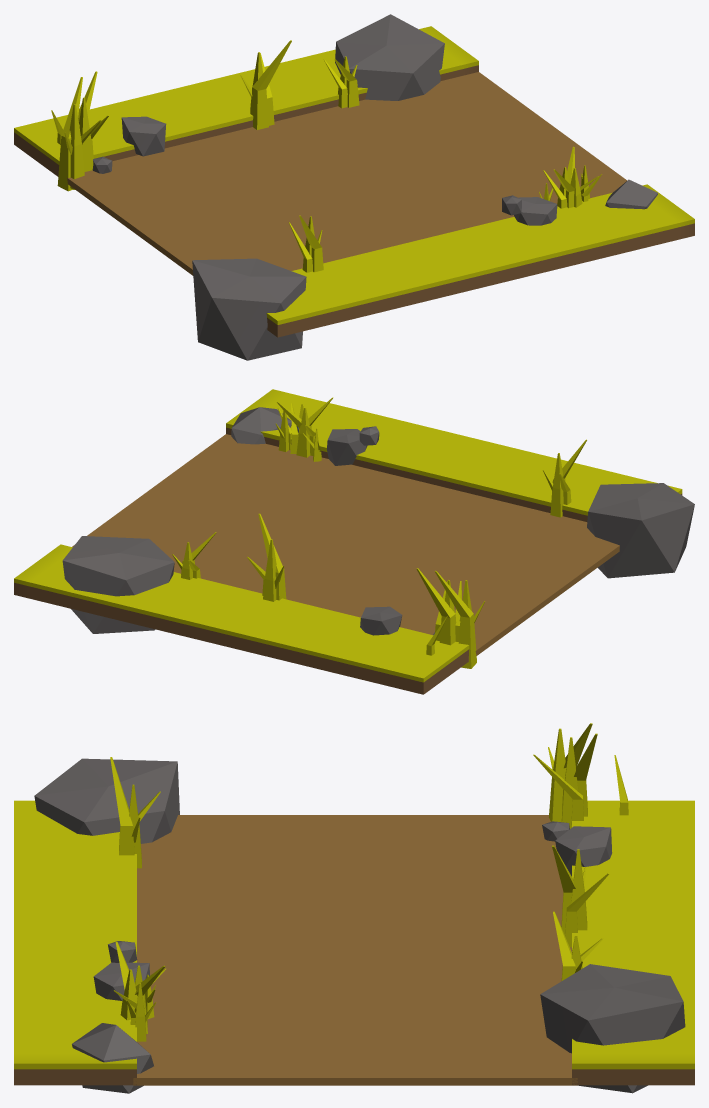
The model's file is CHEMIN 1.fbx.
3 views of the same model, one above another, from view 1: azimuth 30°, elevation 25°; view 2: azimuth 150°, elevation 25°; view 3: azimuth 270°, elevation 25° (orthographic). The views are drawn at different scales.
Parts seen in each view (by area): view 1: Stone_1.002; view 2: Stone_1.002; view 3: Stone_1.002.
Boxes of the visible parts, bbox=[...] form: Stone_1.002: bbox=[14, 14, 694, 360]; Stone_1.002: bbox=[14, 389, 694, 694]; Stone_1.002: bbox=[14, 723, 694, 1093].
Size of the model in its own units: 400 by 100 by 400.
